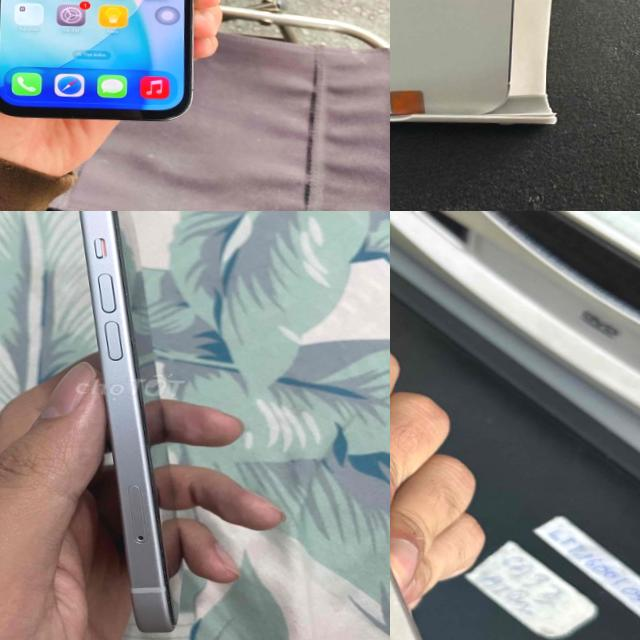gen_14: (0, 0, 209, 134)
gen_15: (15, 211, 240, 640), (390, 211, 470, 640), (390, 0, 543, 120)
scratch: (122, 291, 130, 297)
